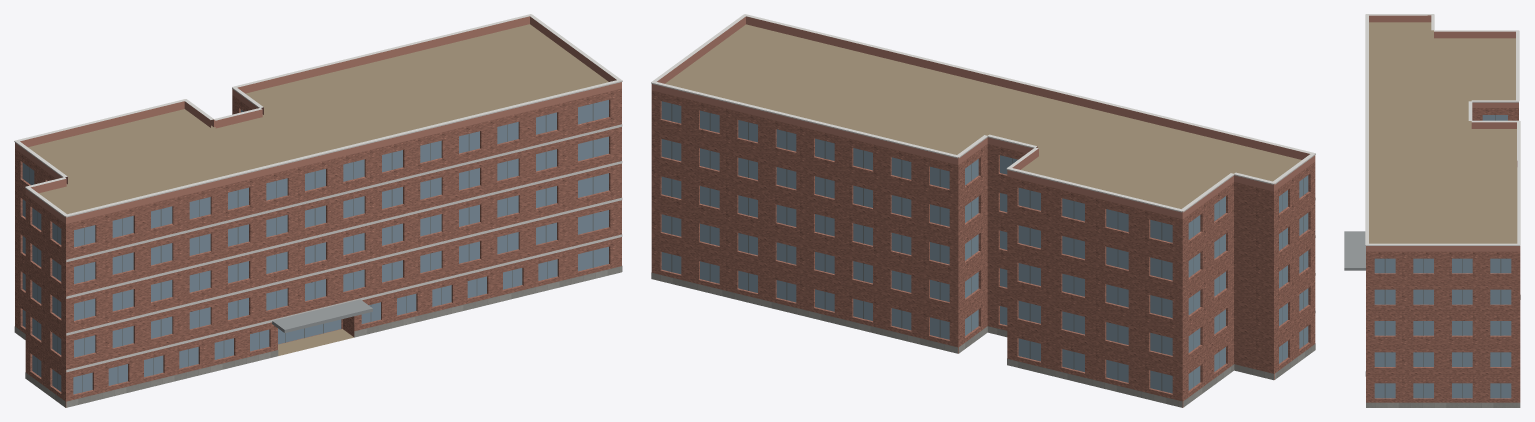
3 views of the same model, side by side, from view 1: azimuth 30°, elevation 25°; view 2: azimuth 150°, elevation 25°; view 3: azimuth 270°, elevation 25° (orthographic). The views are drawn at different scales.
Visible parts, largest first — view 1: isus__wall, isus__roof, isus__glass, isus__trim, isus__parapet, isus__base, isus__frame, isus__canopy; view 2: isus__wall, isus__roof, isus__glass, isus__parapet, isus__trim, isus__base, isus__frame; view 3: isus__roof, isus__wall, isus__glass, isus__trim, isus__parapet, isus__base, isus__canopy, isus__frame.
Boxes of the visible parts, bbox=[...] form: isus__wall: bbox=[15, 88, 621, 407]; isus__roof: bbox=[28, 24, 608, 355]; isus__glass: bbox=[22, 100, 608, 394]; isus__trim: bbox=[14, 14, 622, 372]; isus__parapet: bbox=[15, 16, 621, 223]; isus__base: bbox=[14, 266, 622, 407]; isus__frame: bbox=[29, 103, 593, 392]; isus__canopy: bbox=[272, 299, 372, 332]; isus__wall: bbox=[651, 90, 1315, 407]; isus__roof: bbox=[665, 24, 1301, 208]; isus__glass: bbox=[661, 101, 1308, 393]; isus__parapet: bbox=[651, 16, 1315, 219]; isus__trim: bbox=[651, 14, 1315, 312]; isus__base: bbox=[651, 272, 1315, 407]; isus__frame: bbox=[671, 103, 1303, 390]; isus__roof: bbox=[1369, 22, 1517, 243]; isus__wall: bbox=[1366, 108, 1520, 402]; isus__glass: bbox=[1374, 115, 1511, 398]; isus__trim: bbox=[1365, 14, 1520, 245]; isus__parapet: bbox=[1366, 15, 1520, 251]; isus__base: bbox=[1365, 295, 1520, 407]; isus__canopy: bbox=[1344, 231, 1365, 270]; isus__frame: bbox=[1384, 115, 1501, 398].
Bounding box in the file's own units: 55.57 × 18.27 × 17.93.
9 materials, 2 textured.
